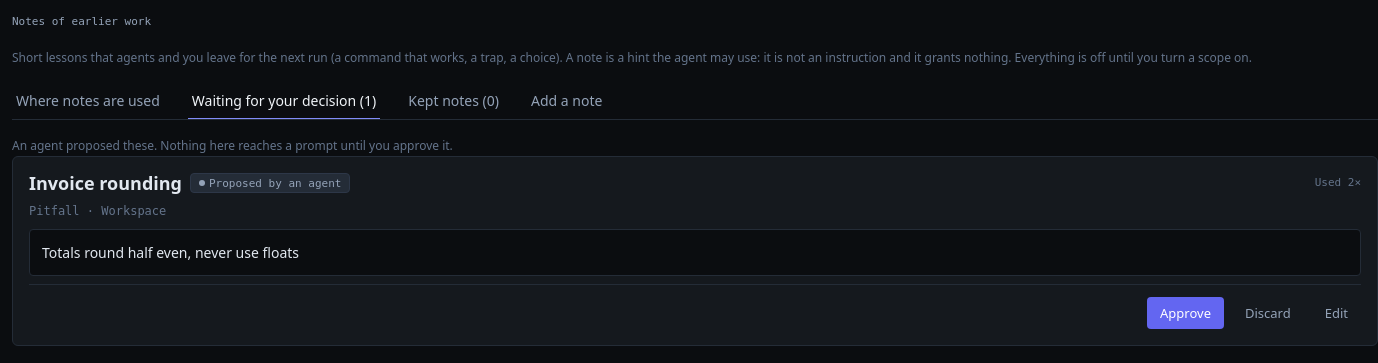
Scenario: MemorySettings › discarding a proposal deletes it
Click the button "Discard".
click(1268, 313)  # box [1232,297,1304,329]
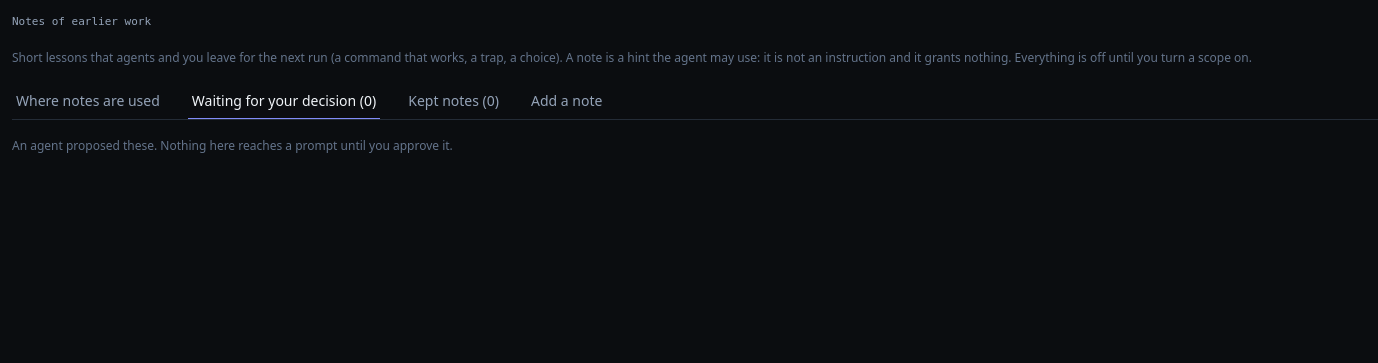
Result: the button "Discard" is gone
